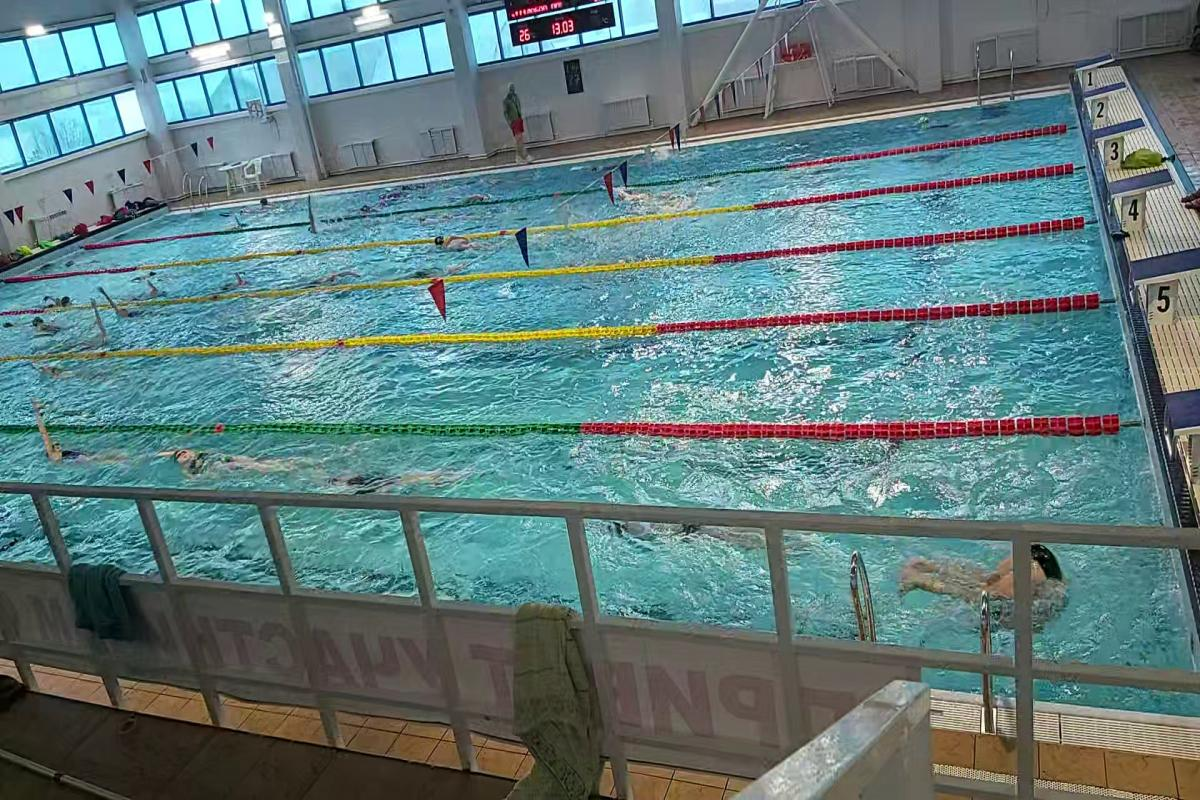swimmer: (902, 534, 1068, 620), (321, 456, 475, 492), (155, 442, 291, 482), (24, 425, 130, 474), (611, 514, 772, 540), (106, 294, 153, 328), (431, 234, 498, 256), (304, 264, 367, 286), (29, 314, 80, 340), (217, 272, 265, 292)
